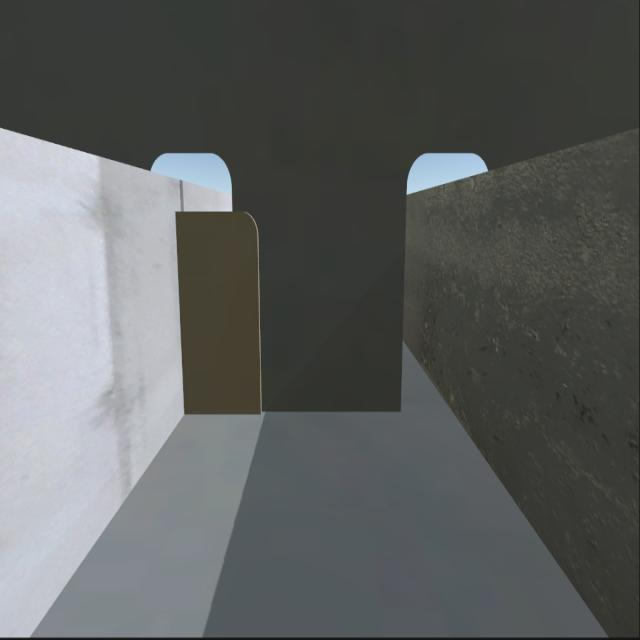fillet_yong_jeop_jang: (184, 409, 400, 420)
longi_yong_jeop_jang: (176, 216, 184, 420)
plate_CP05: (172, 206, 262, 409)
